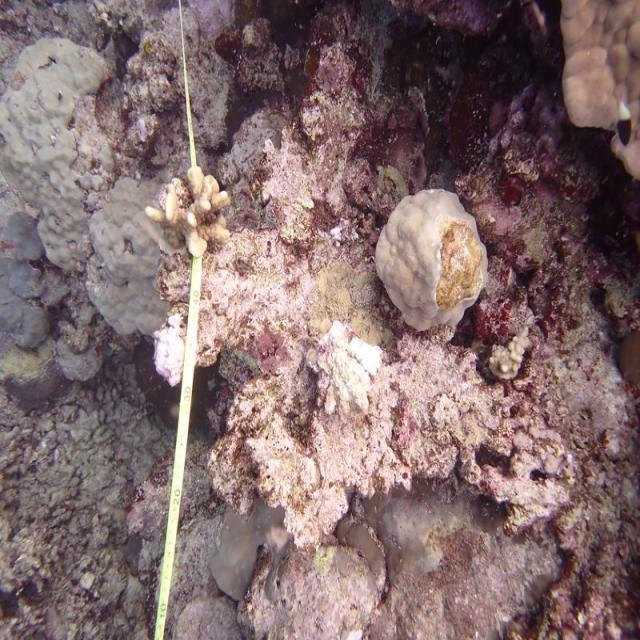Bleached Coral: (293, 308, 391, 412), (156, 316, 184, 383)
Healthy Coral: (1, 20, 155, 358), (537, 0, 640, 160)
